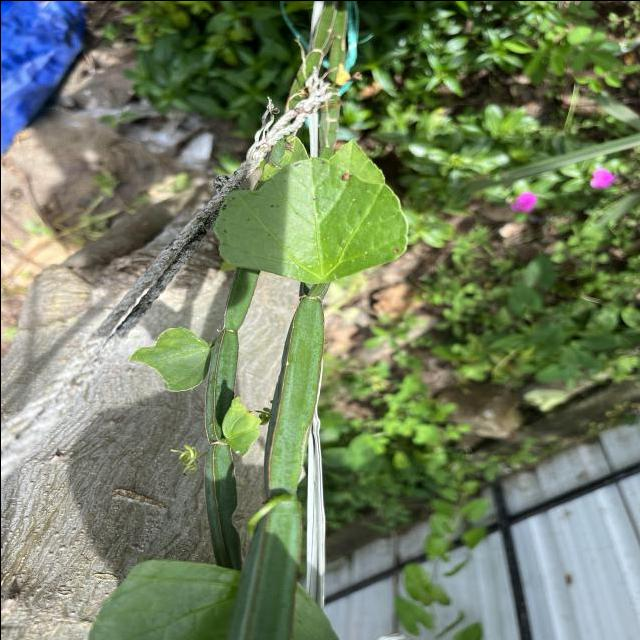Cissus quadrangularis: (209, 154, 409, 286)
